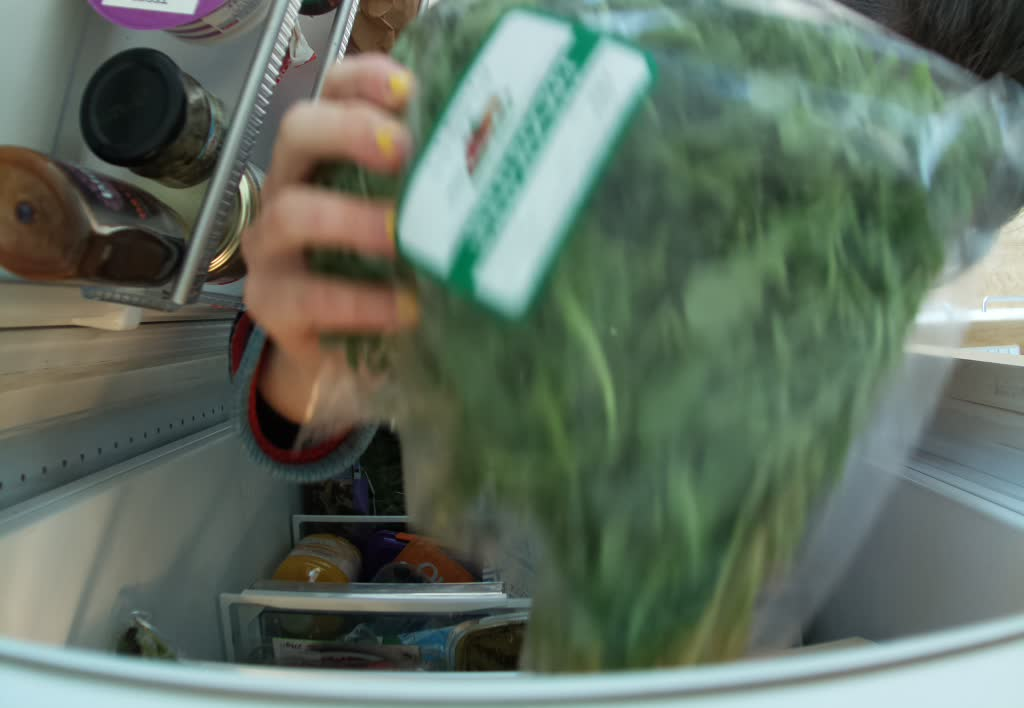salad: (319, 1, 1024, 675)
